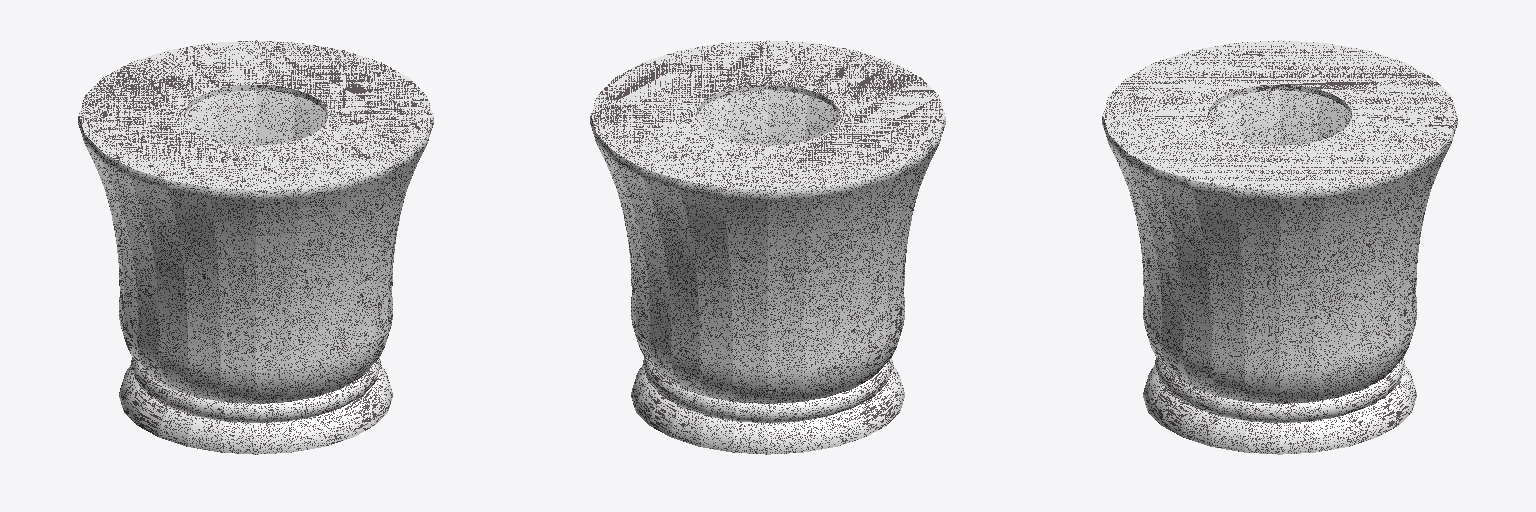
Rendered from original-1.obj.
3 views of the same model, side by side, from view 1: azimuth 30°, elevation 25°; view 2: azimuth 150°, elevation 25°; view 3: azimuth 270°, elevation 25° (orthographic).
Parts seen in each view (by area): view 1: Group1/mesh1/mesh1-geometry#mesh1-geometry; view 2: Group1/mesh1/mesh1-geometry#mesh1-geometry; view 3: Group1/mesh1/mesh1-geometry#mesh1-geometry.
Part boxes in pixels (x1,y1,x2,y2): Group1/mesh1/mesh1-geometry#mesh1-geometry: (78,40,433,454); Group1/mesh1/mesh1-geometry#mesh1-geometry: (590,40,945,454); Group1/mesh1/mesh1-geometry#mesh1-geometry: (1102,40,1457,454).
Size of the model in its own units: 1.07 by 0.9312 by 1.07.